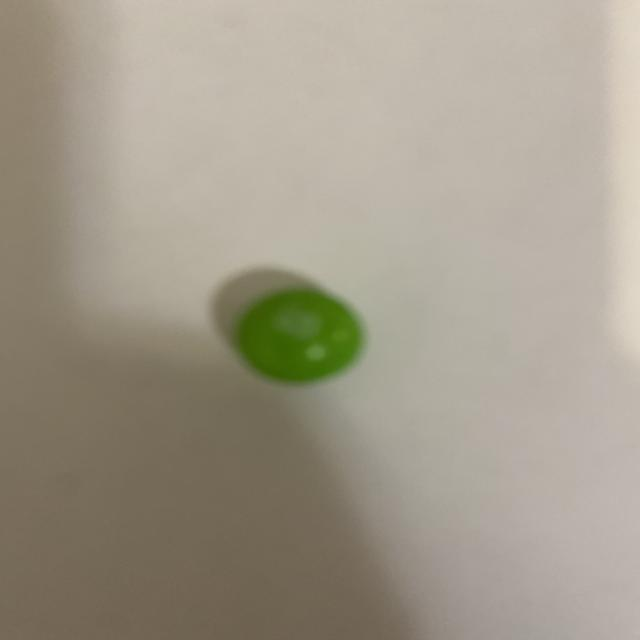smartie: (232, 291, 366, 389)
